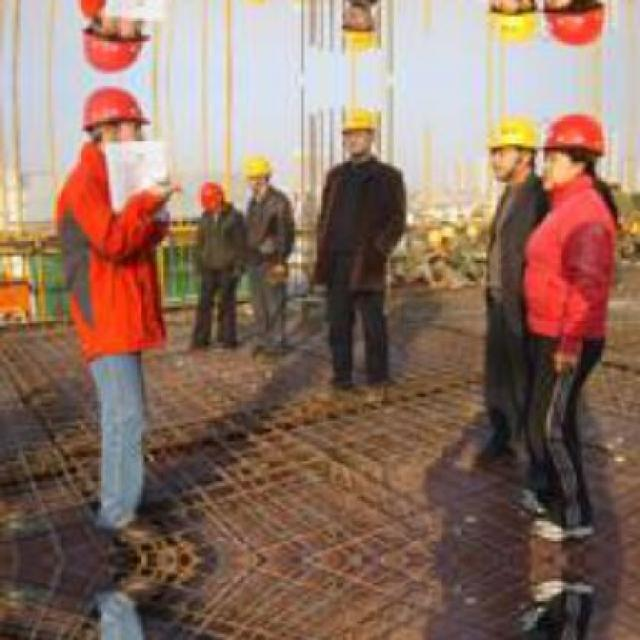helmet: (531, 104, 611, 194), (72, 83, 152, 169), (72, 0, 153, 78), (486, 104, 546, 188), (531, 0, 612, 57), (485, 0, 546, 57), (336, 93, 384, 162), (336, 0, 384, 68), (195, 179, 236, 221), (240, 150, 274, 198), (240, 0, 275, 11)
